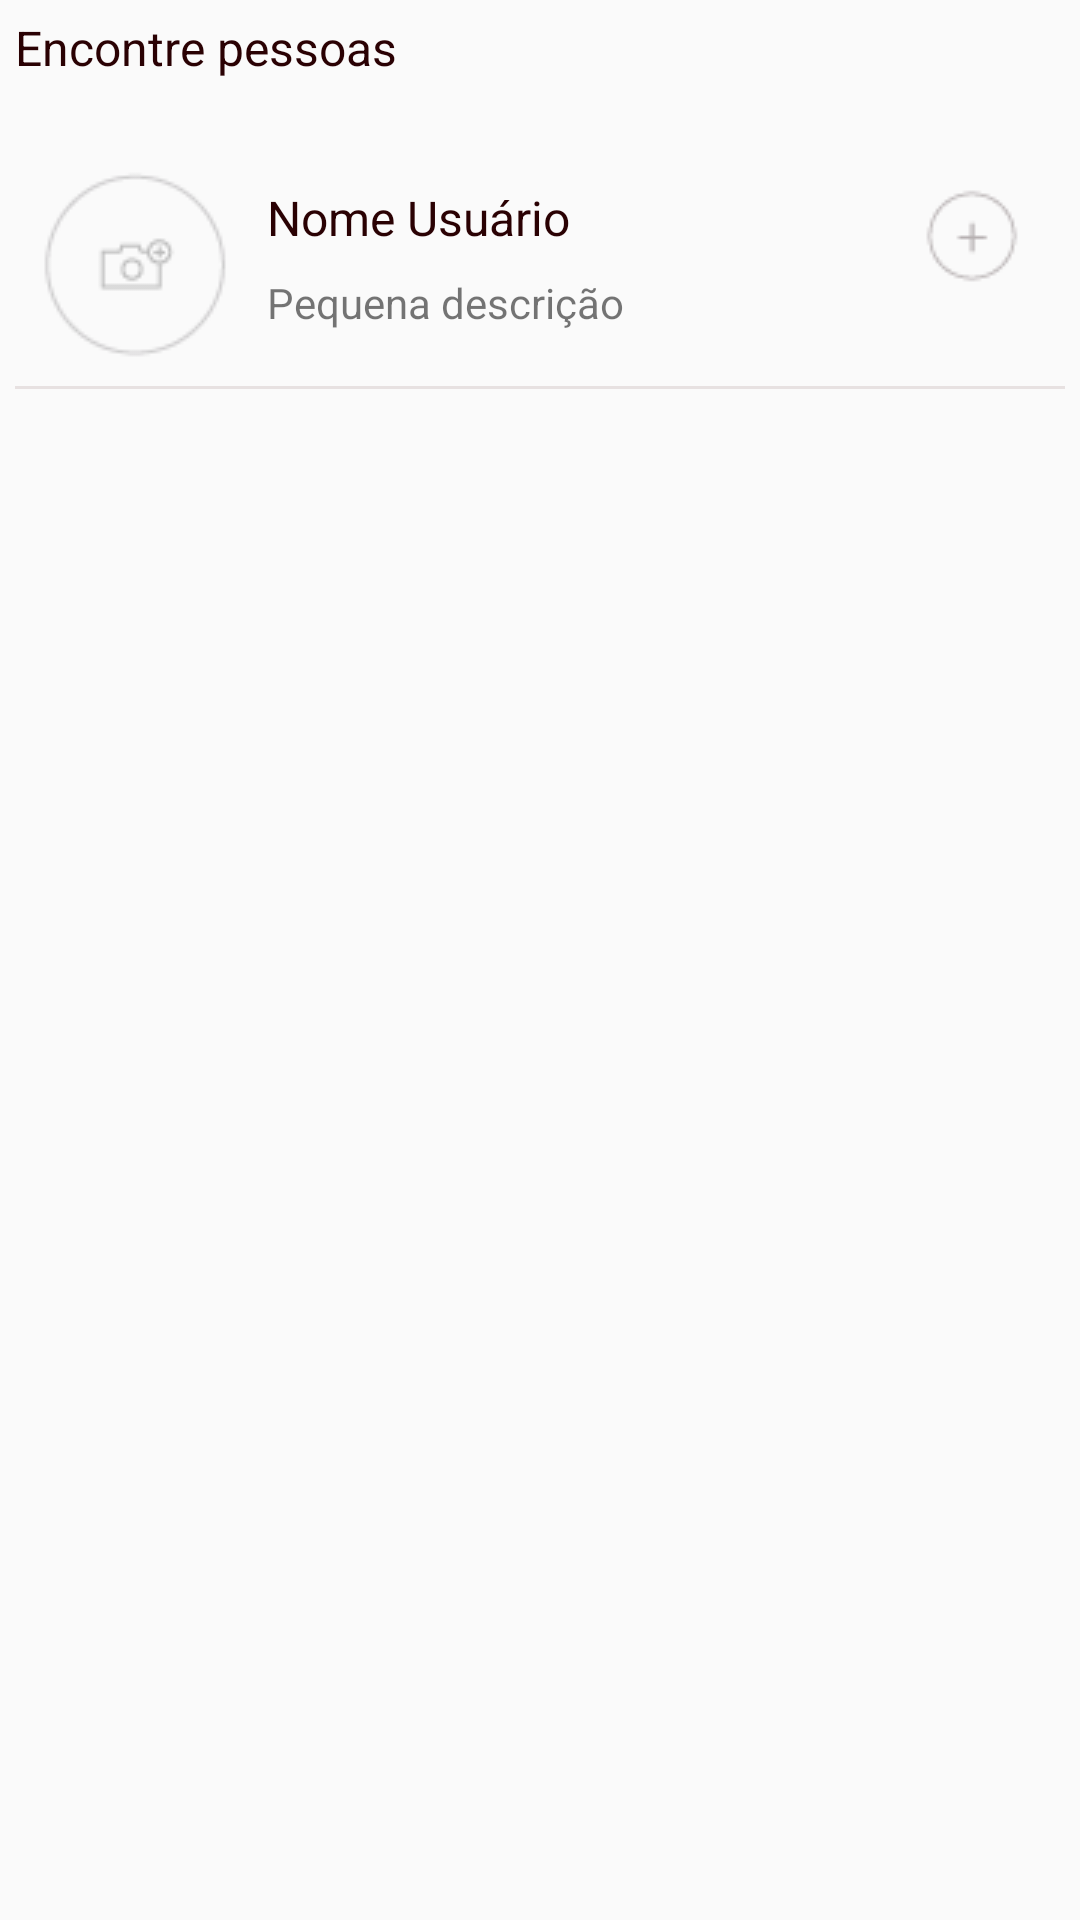

Icon bounding boxes for this 1080w x 1920h phone screenshot, format (x1, y1, x2, y2):
adcionar: (927, 191, 1017, 281)
fotopequena: (46, 176, 225, 353)
